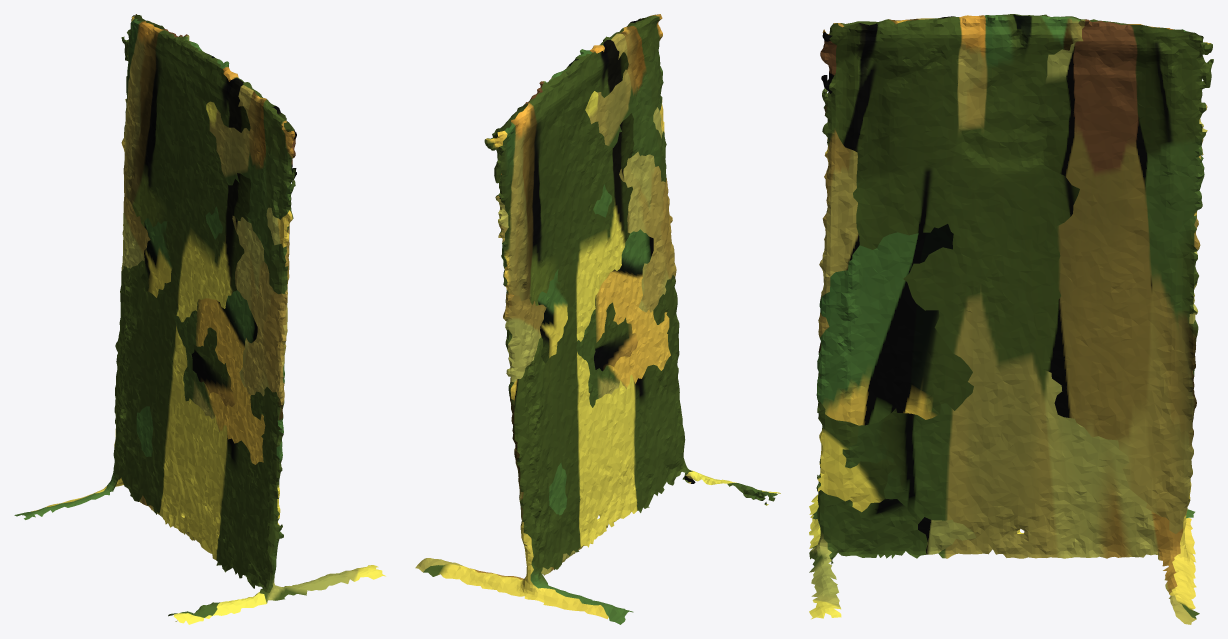
File: mobil.gltf
The picture shows the model from 3 angles, left to right: view 1: azimuth 30°, elevation 25°; view 2: azimuth 150°, elevation 25°; view 3: azimuth 270°, elevation 25°; orthographic projection. The views are drawn at different scales.
Parts seen in each view (by area): view 1: Mesh_0; view 2: Mesh_0; view 3: Mesh_0.
Boxes of the visible parts, box(x1,y1,x2,y2) form: Mesh_0: box(14, 14, 385, 624); Mesh_0: box(415, 14, 780, 624); Mesh_0: box(809, 14, 1213, 624).
Size of the model in its own units: 0.2758 by 0.6078 by 0.3925.
Materials: 1 (1 with a texture image).
